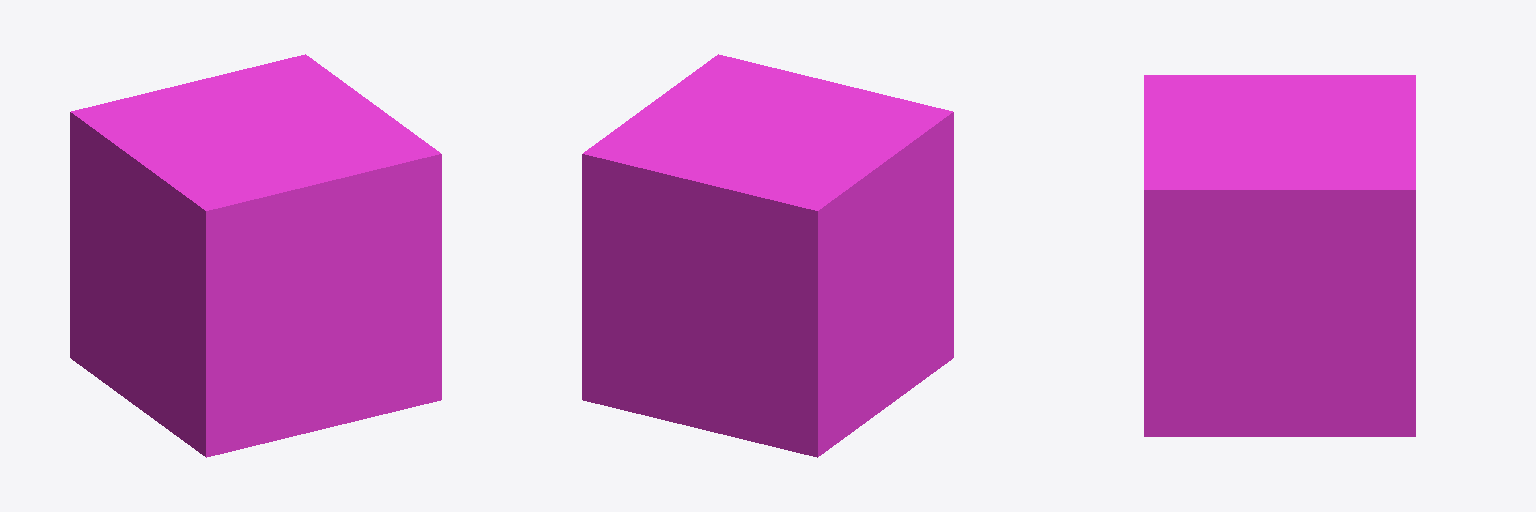
3 renders of one model, left to right at view 1: azimuth 30°, elevation 25°; view 2: azimuth 150°, elevation 25°; view 3: azimuth 270°, elevation 25°, orthographic.
Parts seen in each view (by area): view 1: object 1; view 2: object 1; view 3: object 1.
Part boxes in pixels (x1,y1,x2,y2): object 1: (70, 54, 441, 457); object 1: (582, 54, 953, 457); object 1: (1144, 75, 1415, 436).
Bounding box in the file's own units: 1 × 1 × 1.
1 materials, 1 textured.